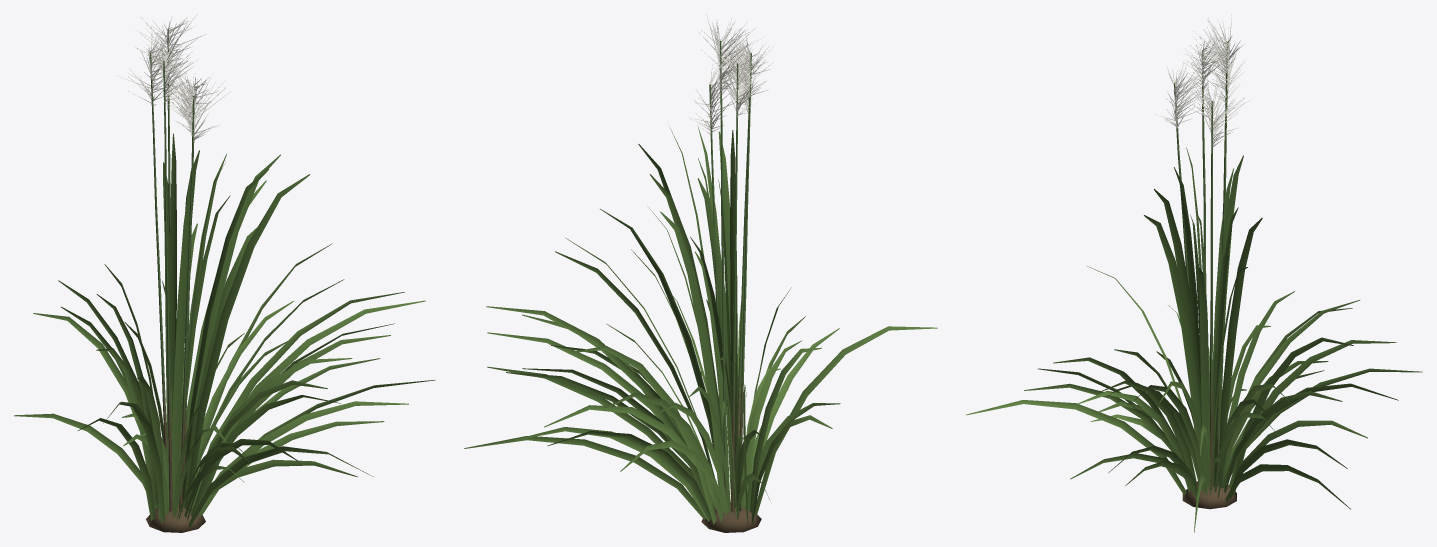
Rendered from FountainGrass.glb.
3 views of the same model, side by side, from view 1: azimuth 30°, elevation 25°; view 2: azimuth 150°, elevation 25°; view 3: azimuth 270°, elevation 25° (orthographic). The views are drawn at different scales.
Visible parts, largest first — view 1: Plant; view 2: Plant; view 3: Plant.
Boxes of the visible parts, x1,y1,x2,y2 form: Plant: [14, 14, 435, 532]; Plant: [464, 14, 937, 532]; Plant: [966, 14, 1422, 532].
Bounding box in the file's own units: 0.6967 × 0.8548 × 0.7467.
